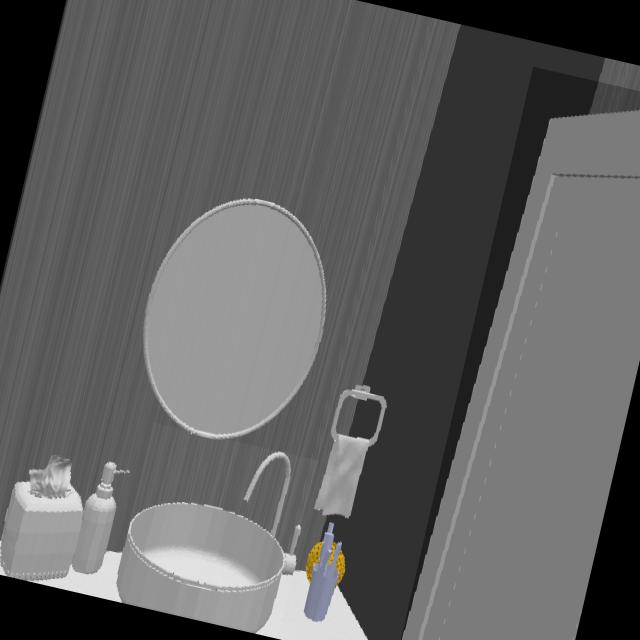shower: (401, 111, 640, 640)
washbasin: (116, 452, 295, 631)
